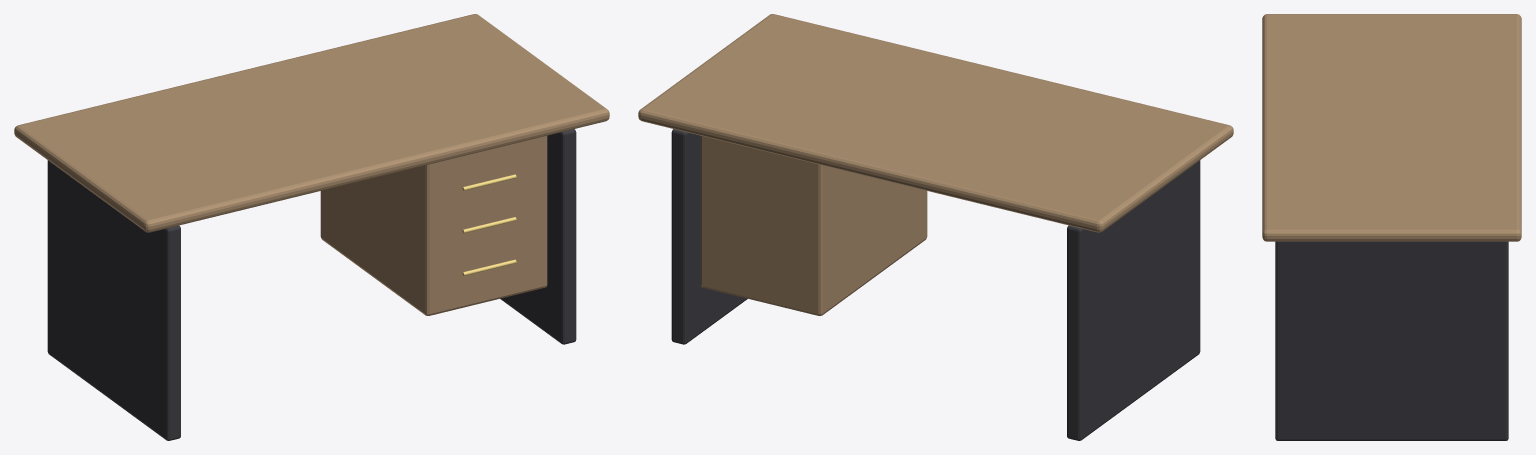
The model's file is desk.glb.
3 renders of one model, left to right at view 1: azimuth 30°, elevation 25°; view 2: azimuth 150°, elevation 25°; view 3: azimuth 270°, elevation 25°, orthographic. The views are drawn at different scales.
Parts seen in each view (by area): view 1: Desktop_Slab, Drawer_Pedestal, Cube, Cube.001; view 2: Desktop_Slab, Drawer_Pedestal, Cube, Cube.001; view 3: Desktop_Slab, Cube.001.
Part boxes in pixels (box(x1,y1,x2,y2)): Desktop_Slab: box(14, 14, 609, 232); Drawer_Pedestal: box(320, 136, 547, 315); Cube: box(47, 160, 180, 440); Cube.001: box(500, 129, 576, 344); Desktop_Slab: box(638, 14, 1233, 232); Drawer_Pedestal: box(700, 136, 927, 315); Cube: box(1067, 160, 1200, 440); Cube.001: box(671, 129, 747, 344); Desktop_Slab: box(1262, 14, 1521, 241); Cube.001: box(1275, 241, 1508, 440).
Size of the model in its own units: 1.6 by 0.76 by 0.8.
